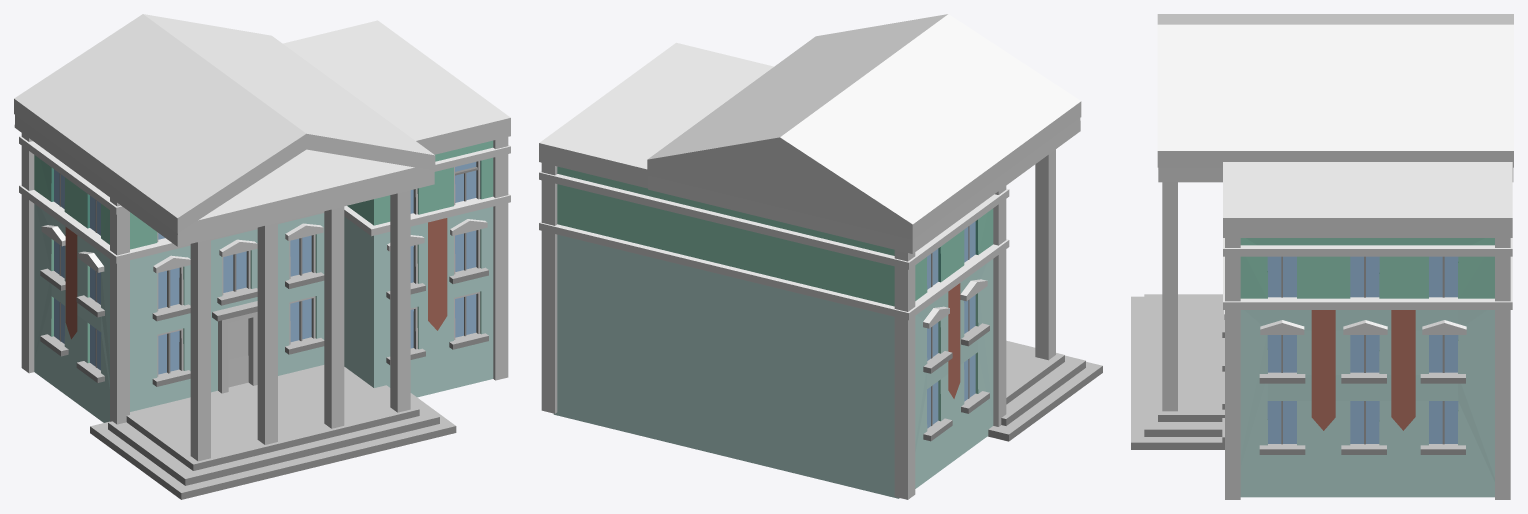
File: house_art_008.fbx
The picture shows the model from 3 angles, left to right: view 1: azimuth 30°, elevation 25°; view 2: azimuth 150°, elevation 25°; view 3: azimuth 270°, elevation 25°; orthographic projection. The views are drawn at different scales.
Parts seen in each view (by area): view 1: house_art_008; view 2: house_art_008; view 3: house_art_008.
Part boxes in pixels (box(x1,y1,x2,y2)): house_art_008: box(14, 14, 510, 499); house_art_008: box(539, 14, 1102, 499); house_art_008: box(1131, 14, 1513, 499).
Bounding box in the file's own units: 1204 × 1009 × 985.
